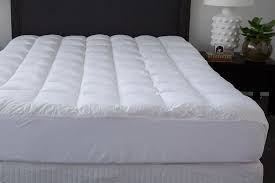bed-matress: (1, 33, 267, 164)
